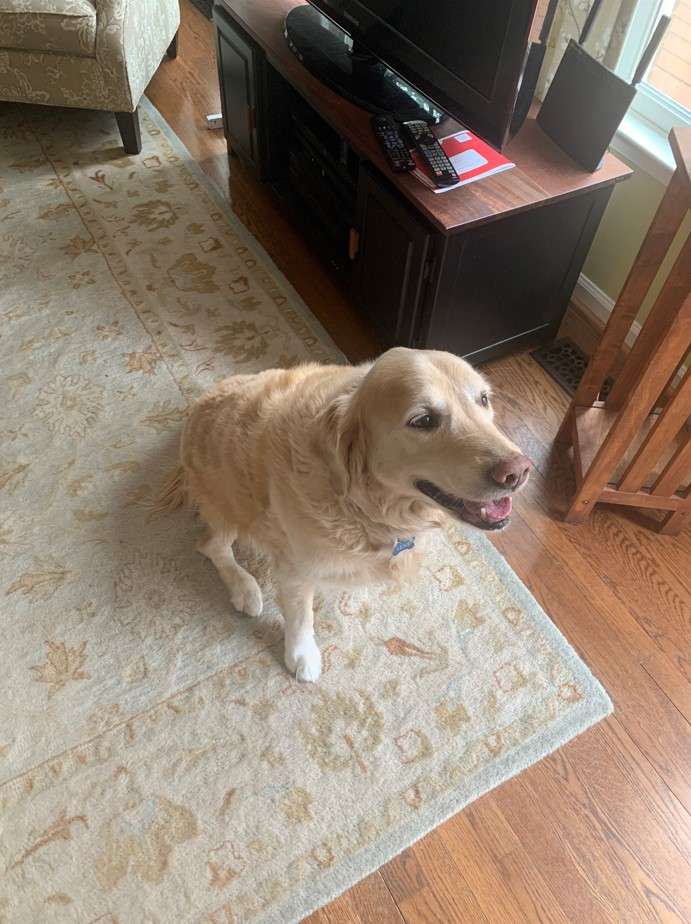bella: (336, 345, 532, 534)
